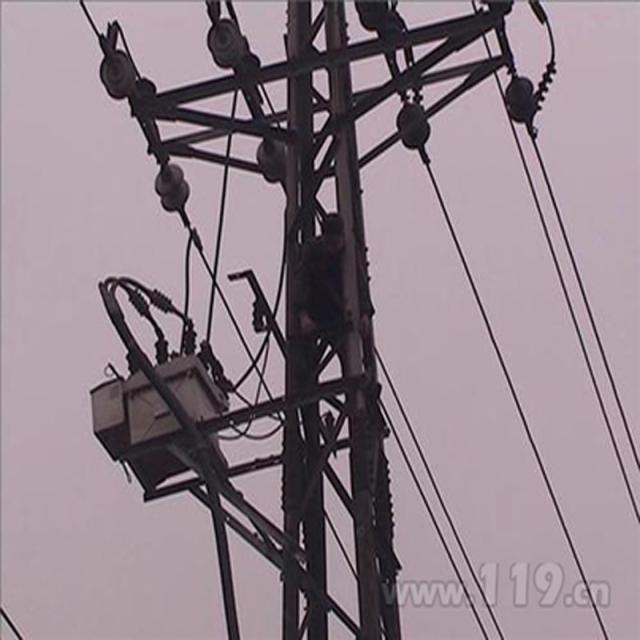non-critical vegetation: (146, 27, 493, 634)
